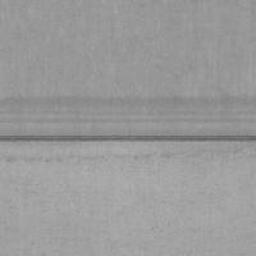Welding line: (0, 133, 256, 143)
